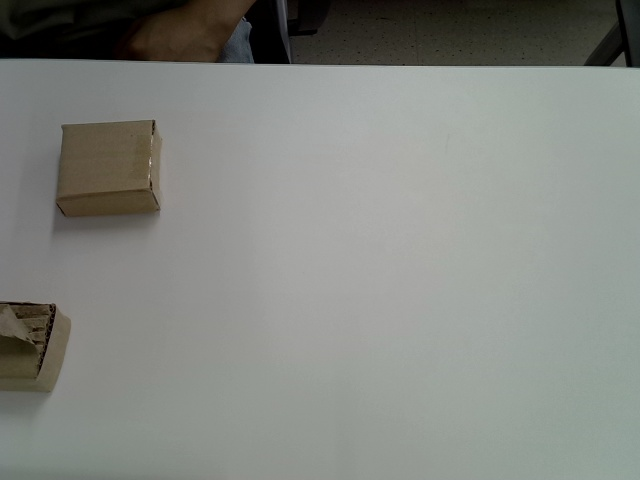defect: (1, 302, 72, 393)
normal: (55, 119, 164, 218)
